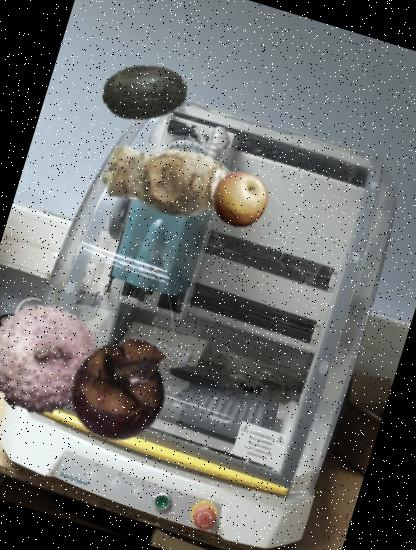Apple: (204, 164, 275, 235)
Ginger: (82, 94, 259, 270)
Lychee: (0, 286, 114, 428)
Mangostan: (51, 318, 190, 458)
Melon: (92, 39, 198, 145)
